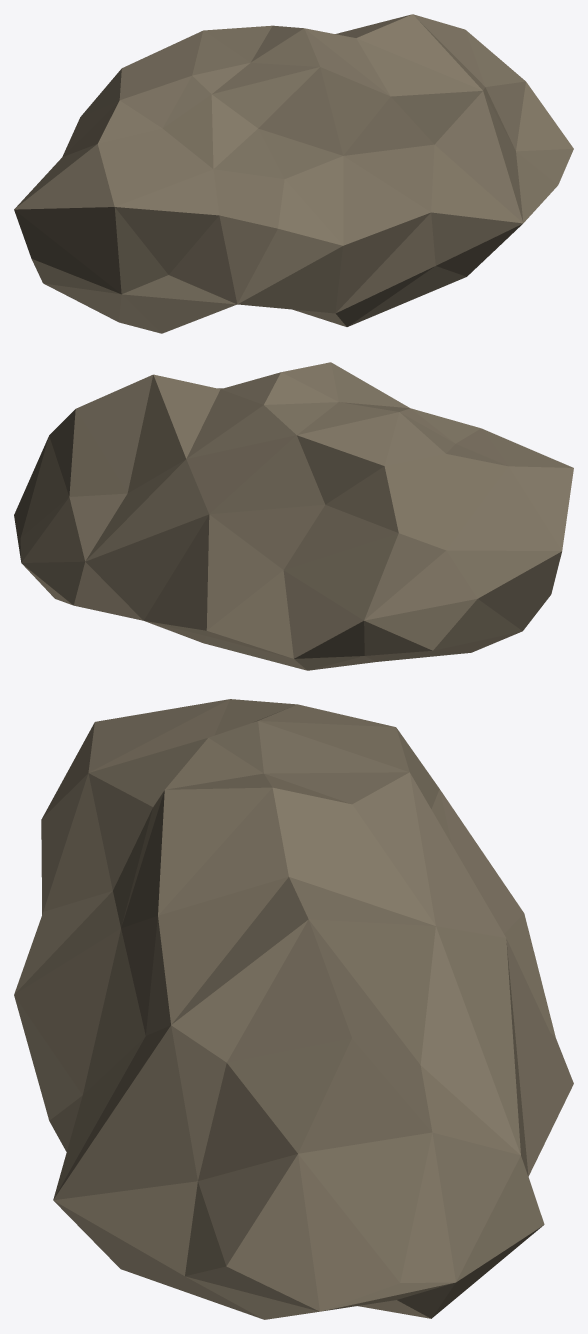
Rendered from MediumRock_1.fbx.
3 renders of one model, top to bottom at view 1: azimuth 30°, elevation 25°; view 2: azimuth 150°, elevation 25°; view 3: azimuth 270°, elevation 25°, orthographic. The views are drawn at different scales.
Visible parts, largest first — view 1: MediumRock_1; view 2: MediumRock_1; view 3: MediumRock_1.
Boxes of the visible parts, x1,y1,x2,y2 form: MediumRock_1: (14, 14, 573, 333); MediumRock_1: (14, 362, 573, 670); MediumRock_1: (14, 699, 573, 1319).
Size of the model in its own units: 122 by 54.64 by 66.69.
